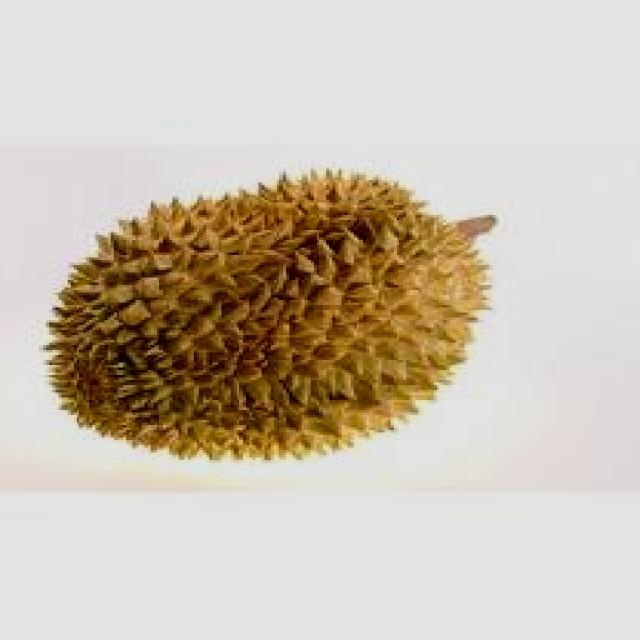agrume: (28, 142, 510, 480)
